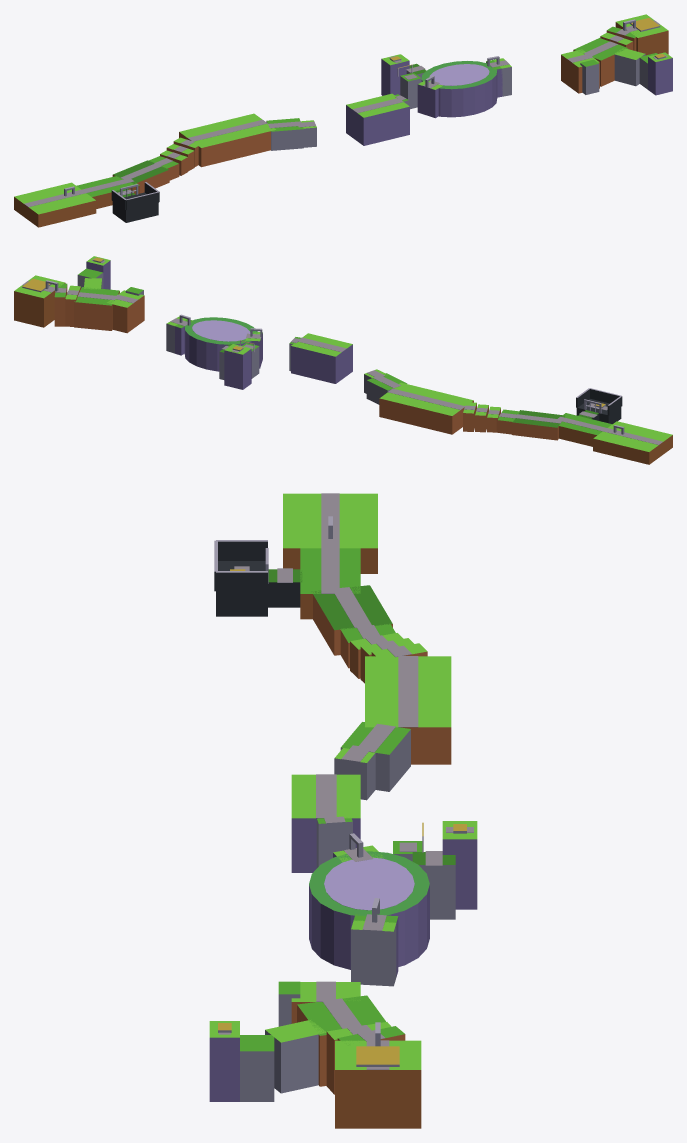
File: star_garden_course_v3.obj
The picture shows the model from 3 angles, top to bottom: view 1: azimuth 30°, elevation 25°; view 2: azimuth 150°, elevation 25°; view 3: azimuth 270°, elevation 25°; orthographic projection. The views are drawn at different scales.
Visible parts, largest first — view 1: star_garden_course_v3; view 2: star_garden_course_v3; view 3: star_garden_course_v3.
Part boxes in pixels (x1=…): star_garden_course_v3: x1=14, y1=14, x2=672, y2=227; star_garden_course_v3: x1=14, y1=256, x2=672, y2=464; star_garden_course_v3: x1=209, y1=493, x2=477, y2=1128.
Size of the model in its own units: 668 by 38 by 124.
